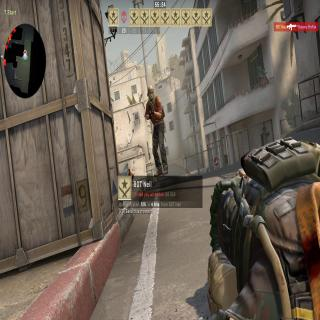T-Body: (146, 85, 168, 177)
T-Head: (147, 86, 155, 100)
